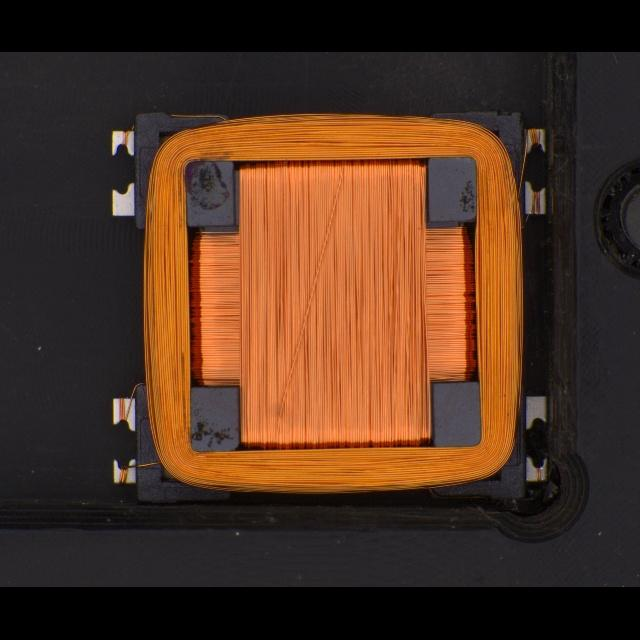Winding_Z: (117, 109, 527, 501)
